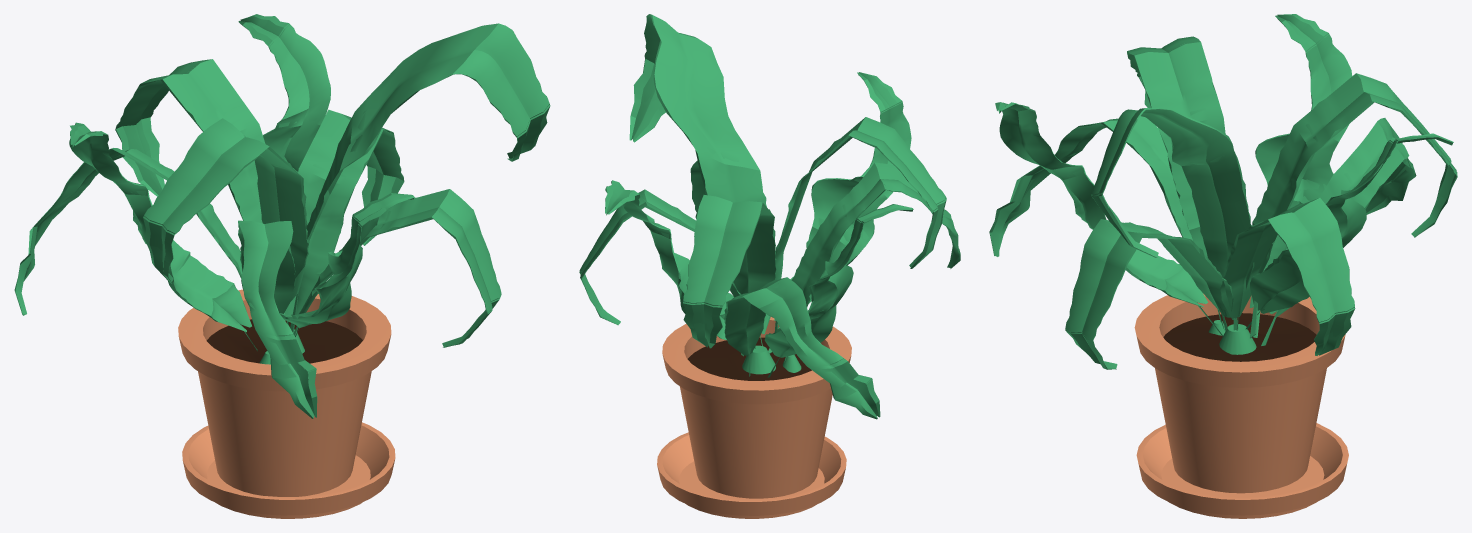
File: plant alive.fbx
3 views of the same model, side by side, from view 1: azimuth 30°, elevation 25°; view 2: azimuth 150°, elevation 25°; view 3: azimuth 270°, elevation 25° (orthographic). The views are drawn at different scales.
Parts seen in each view (by area): view 1: alive plant; view 2: alive plant; view 3: alive plant.
Boxes of the visible parts, <box> form: alive plant: <box>14,14,550,518</box>; alive plant: <box>579,14,960,518</box>; alive plant: <box>989,14,1457,518</box>.
Size of the model in its own units: 79.28 by 85.04 by 79.96.
